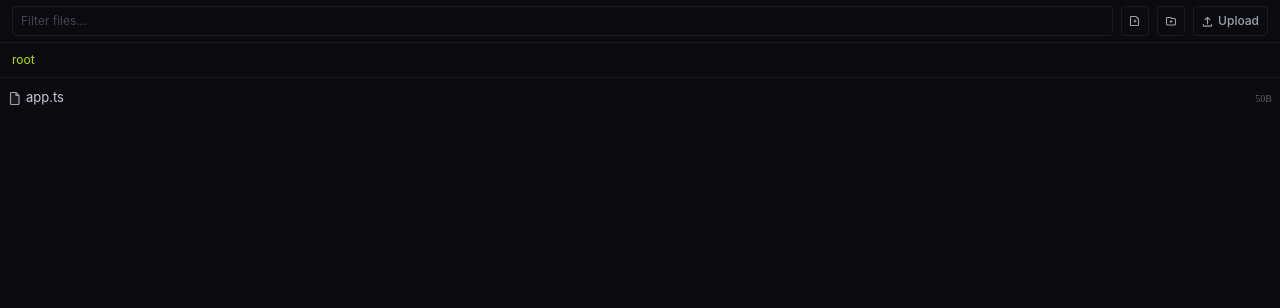
Test case: FileTree › shows context menu on right click
Expected: the text "app.ts" is shown, [26,88,64,108]
Right-click the list item "app.ts": (45, 97) [8,89,1272,105]
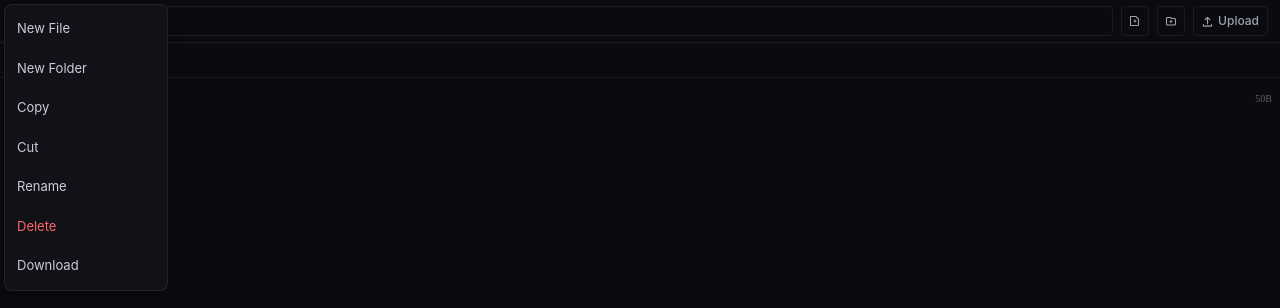
Now the element with test id "context-menu" is shown, box [4,4,168,290]
